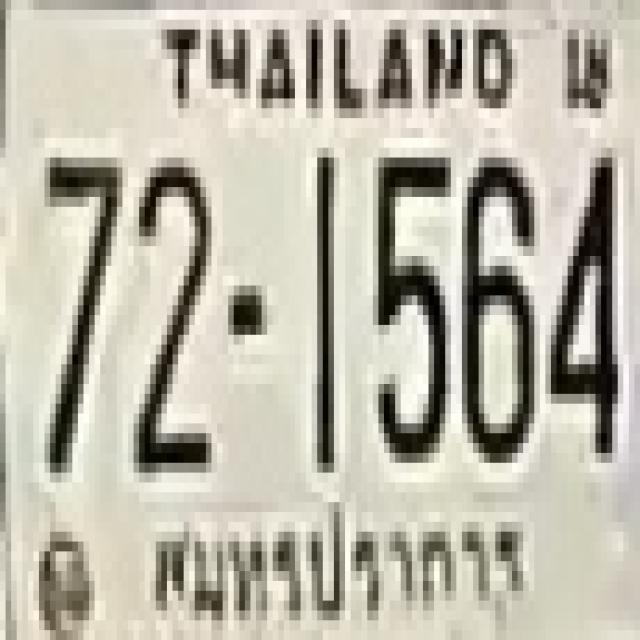1: (312, 148, 334, 462)
2: (130, 152, 208, 468)
4: (546, 148, 612, 453)
5: (373, 148, 445, 453)
6: (459, 148, 532, 453)
7: (39, 148, 117, 462)
SPK: (142, 494, 537, 633)
